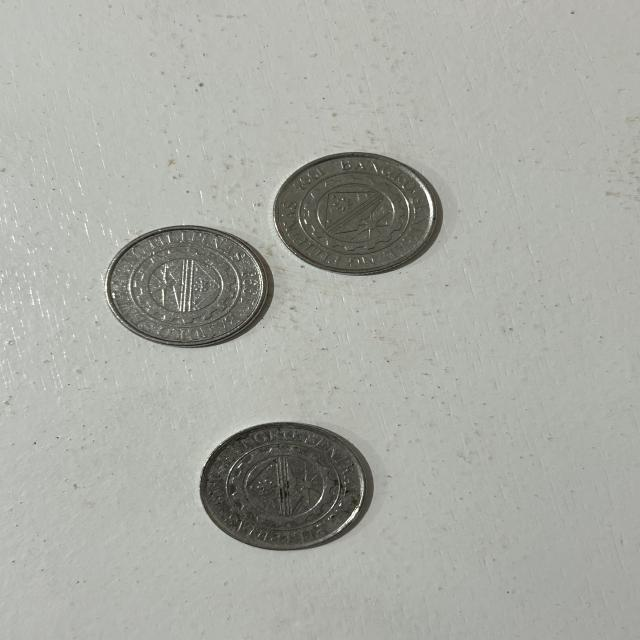1_Old_Back: (223, 441, 349, 539), (289, 168, 417, 253), (122, 242, 248, 324)
